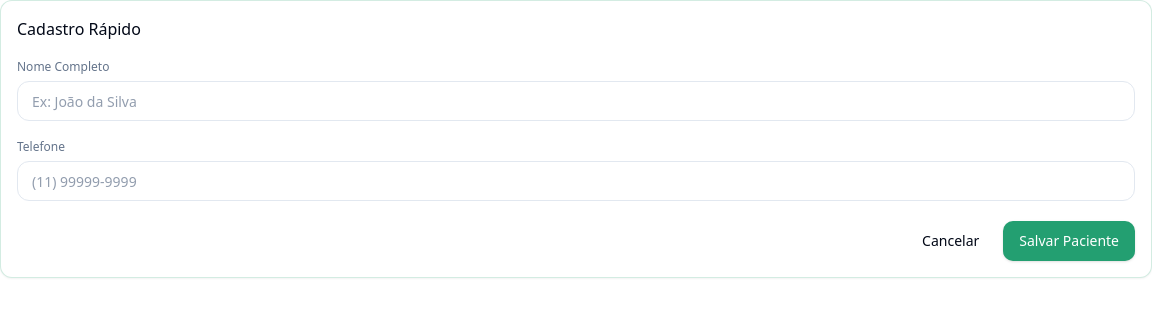
Test: QuickPatientForm exibe erro ao tentar submeter telefone inválido ou campos vazios
The width and height of the screenshot is (1152, 327).
Note: Tenta submeter vazio
Step 1. Click the button "Salvar Paciente" → x=1069, y=241, box [1003, 221, 1135, 261]
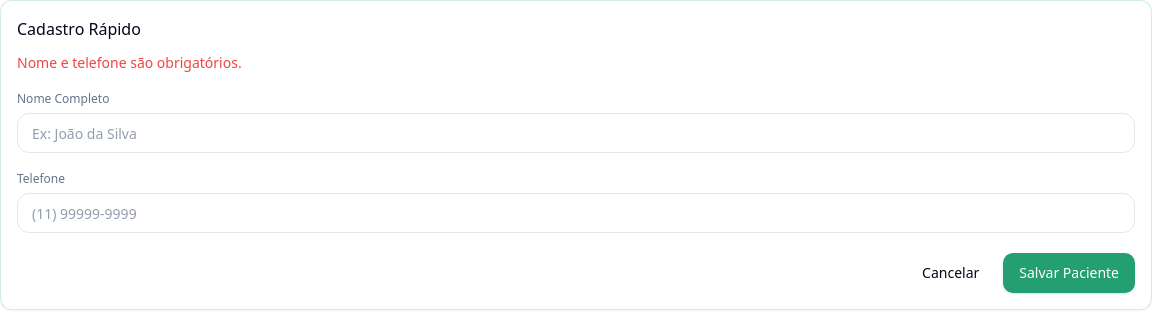
Check: the text "Nome e telefone são obrigatórios." is shown, box [17, 53, 242, 72]
Note: Tenta submeter com telefone inválido
Step 2. Type "Paciente Teste" into the field with placeholder "Ex: João da Silva" → x=576, y=133, box [17, 113, 1135, 153]
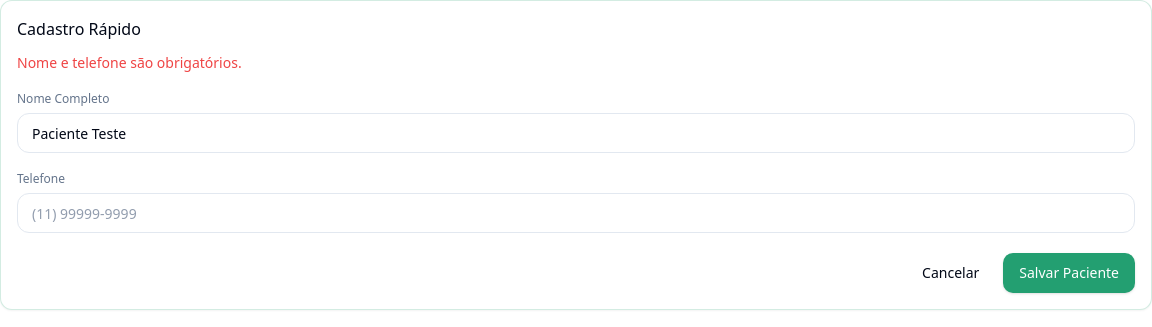
Step 3. Type "123" into the field with placeholder "(11) 99999-9999" → x=576, y=213, box [17, 193, 1135, 233]
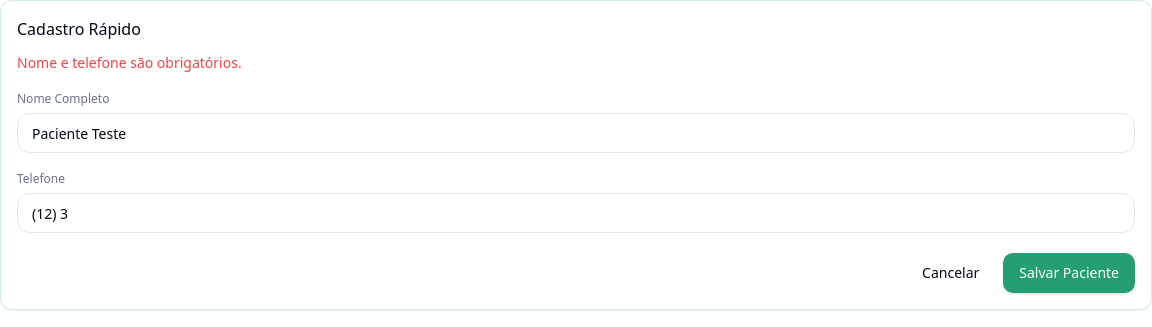
Step 4. Click the button "Salvar Paciente" → x=1069, y=273, box [1003, 253, 1135, 293]
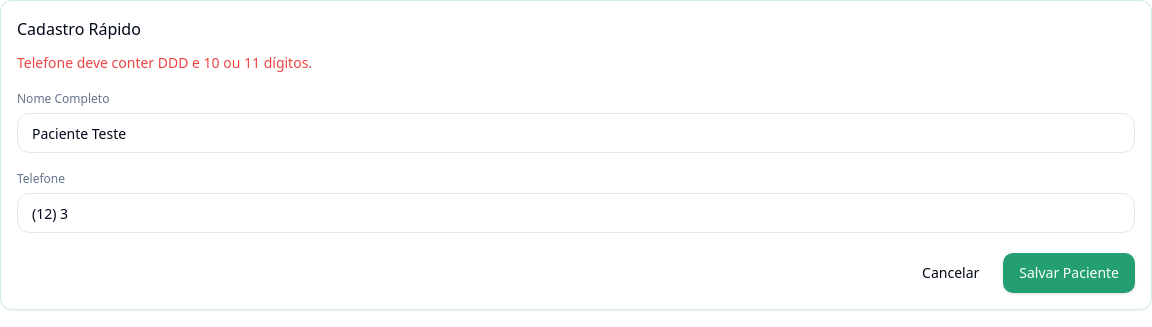
Check: the text "Telefone deve conter DDD e 10 ou 11 dígitos." is shown, box [17, 53, 312, 72]
